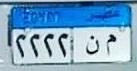2: (57, 32, 70, 60), (14, 33, 27, 59), (29, 33, 41, 58), (43, 32, 54, 59)
meem: (104, 33, 117, 58)
noon: (85, 34, 101, 59)
